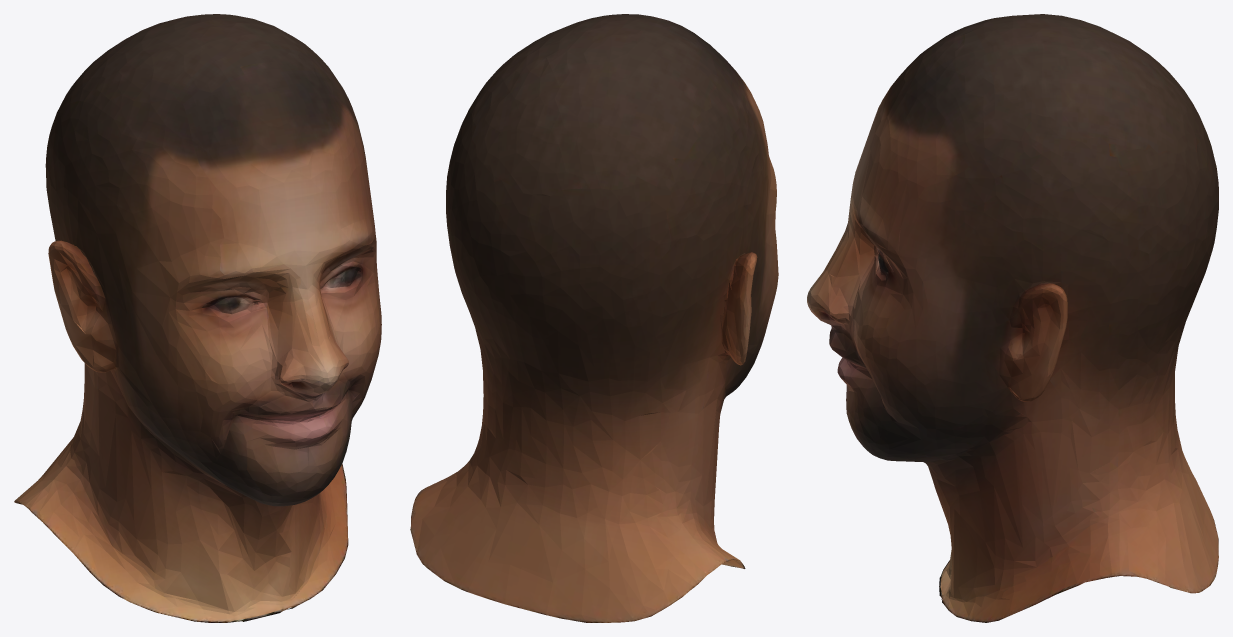
The model's file is head-beard.glb.
The picture shows the model from 3 angles, left to right: view 1: azimuth 30°, elevation 25°; view 2: azimuth 150°, elevation 25°; view 3: azimuth 270°, elevation 25°; orthographic projection.
Parts seen in each view (by area): view 1: geometry_0; view 2: geometry_0; view 3: geometry_0.
Part boxes in pixels (x1,y1,x2,y2): geometry_0: (14, 14, 381, 622); geometry_0: (410, 14, 778, 622); geometry_0: (807, 14, 1218, 622).
Size of the model in its own units: 0.5775 by 1 by 0.6687.
1 material, 1 textured.
